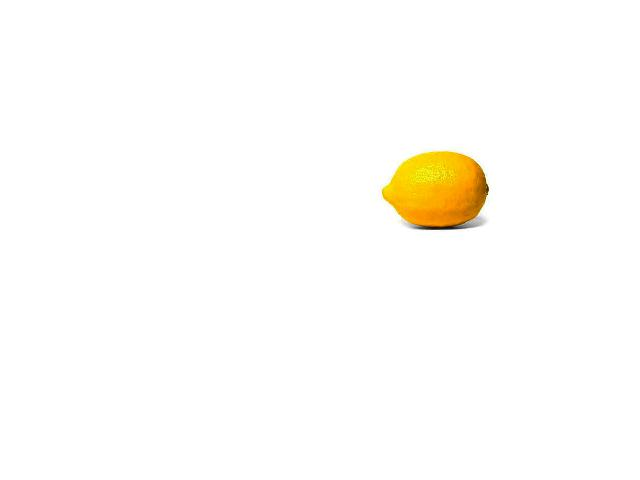lemon: (378, 153, 493, 227)
